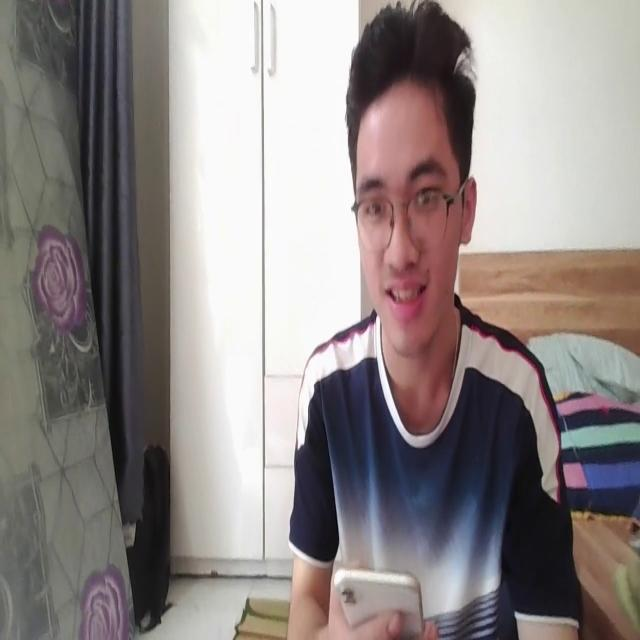phone: (332, 562, 428, 640)
student: (291, 0, 579, 640)
